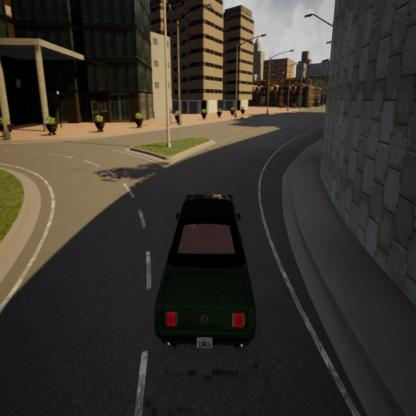Cars: (144, 182, 263, 361)
Pedestrian: (166, 105, 174, 128)
